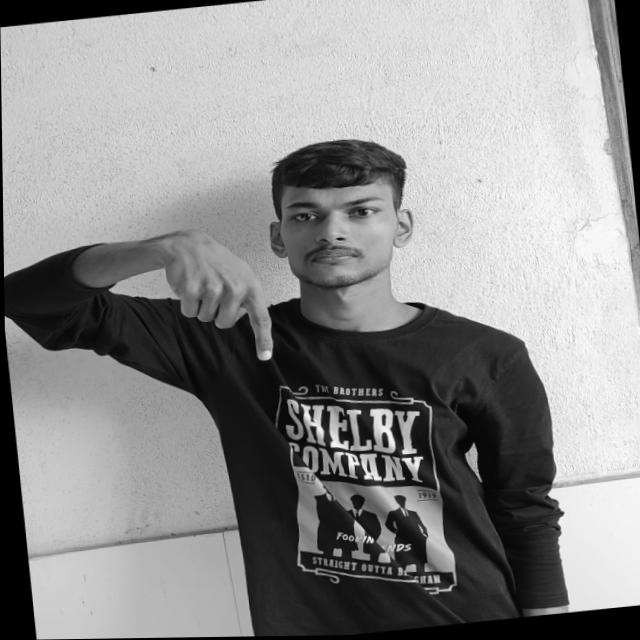Now: (153, 231, 276, 373)
